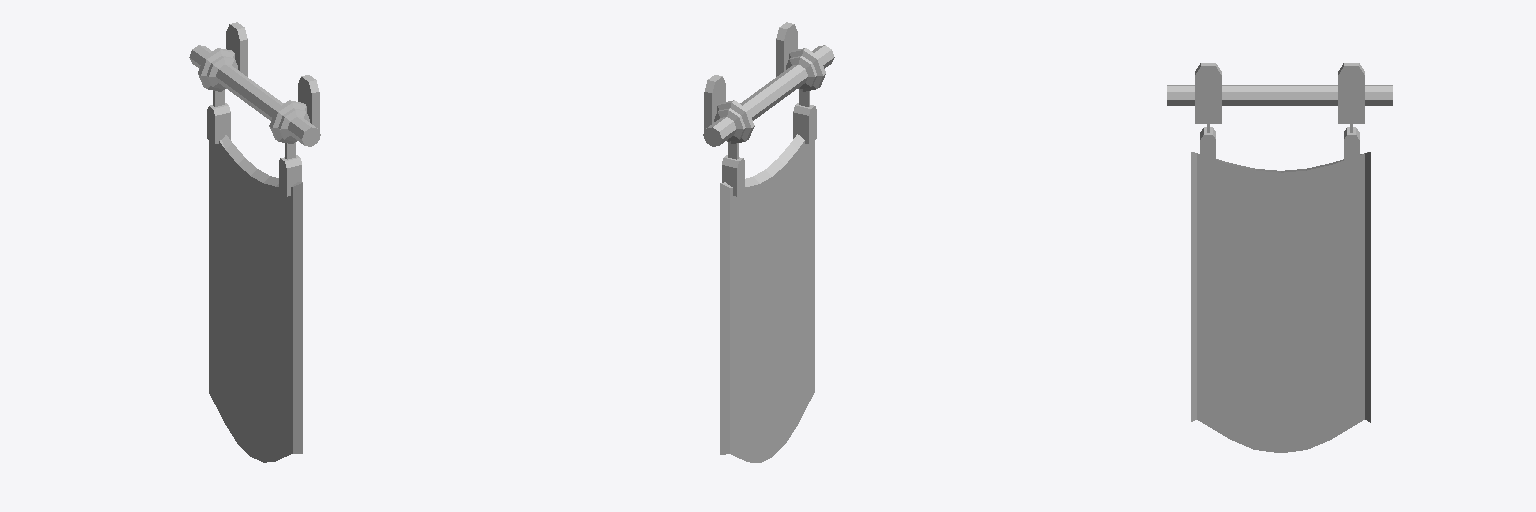
File: Banner.obj
The picture shows the model from 3 angles: view 1: azimuth 30°, elevation 25°; view 2: azimuth 150°, elevation 25°; view 3: azimuth 270°, elevation 25°; orthographic projection.
Parts seen in each view (by area): view 1: Banner; view 2: Banner; view 3: Banner.
Part boxes in pixels (x1,y1,x2,y2): Banner: (189,22,320,462); Banner: (703,22,834,462); Banner: (1167,63,1392,452).
Bounding box in the file's own units: 0.181 × 1.65 × 0.8432.